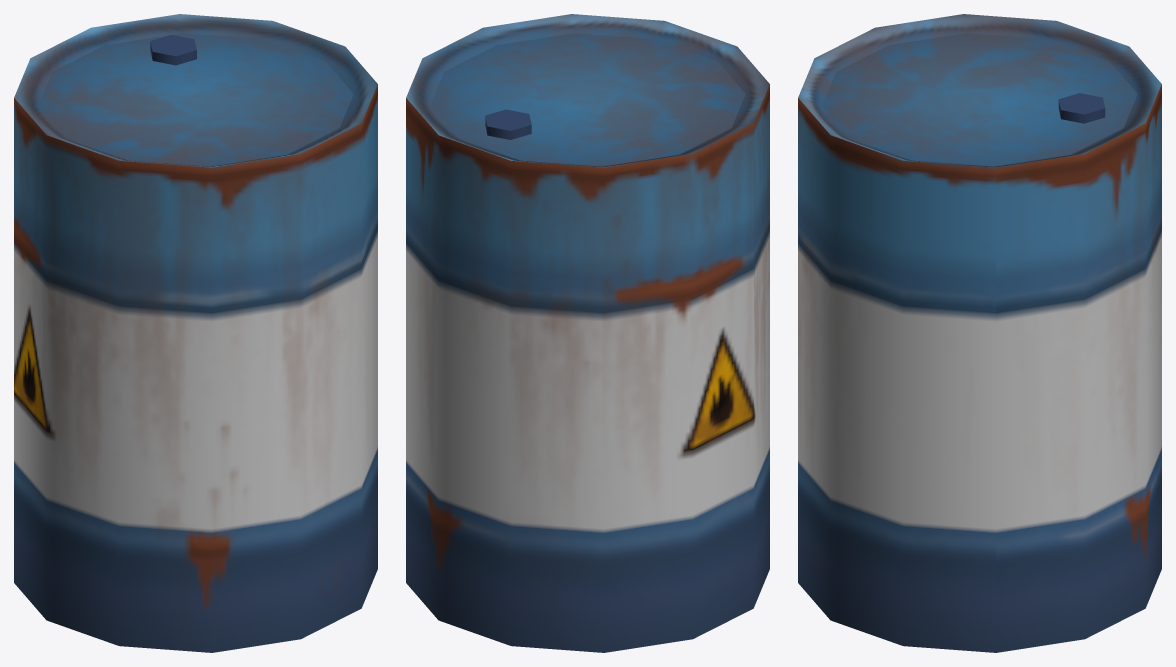
File: TRF0210024.fbx
3 views of the same model, side by side, from view 1: azimuth 30°, elevation 25°; view 2: azimuth 150°, elevation 25°; view 3: azimuth 270°, elevation 25° (orthographic).
Parts seen in each view (by area): view 1: smTRF0210024; view 2: smTRF0210024; view 3: smTRF0210024.
Part boxes in pixels (x1,y1,x2,y2): smTRF0210024: [14, 14, 377, 652]; smTRF0210024: [406, 14, 769, 652]; smTRF0210024: [798, 14, 1161, 652].
Bounding box in the file's own units: 81.62 × 120 × 81.62.
Materials: 1 (1 with a texture image).
